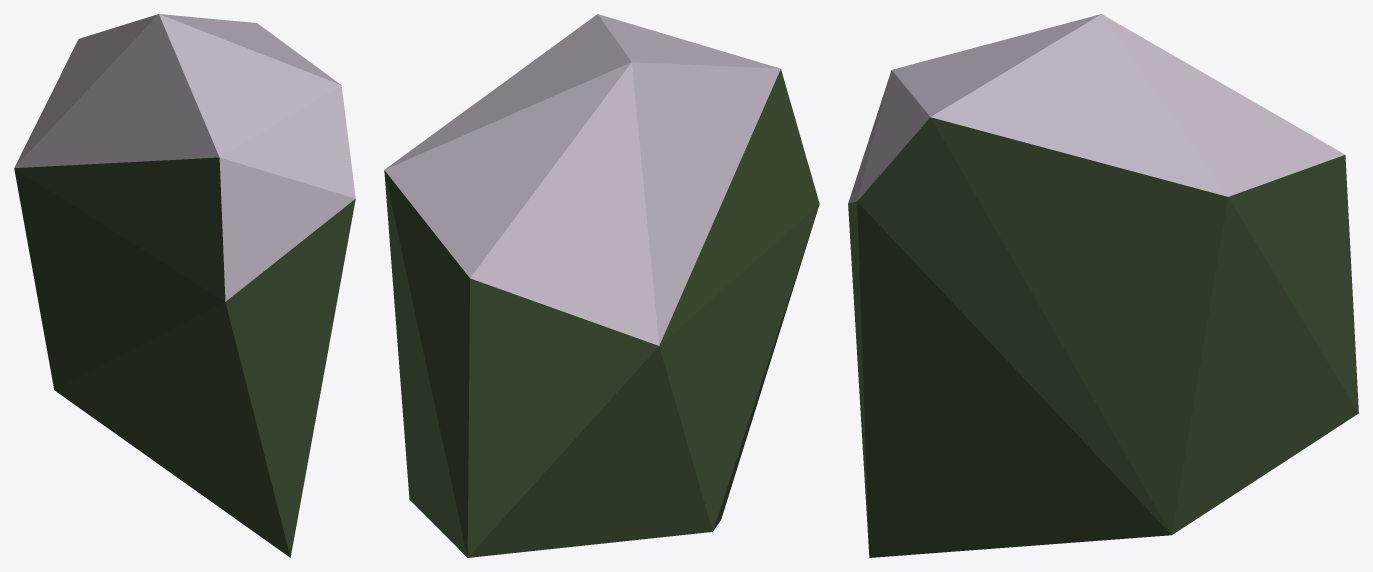
Rendered from Willow_Snow_2.lod4.glb.
3 views of the same model, side by side, from view 1: azimuth 30°, elevation 25°; view 2: azimuth 150°, elevation 25°; view 3: azimuth 270°, elevation 25° (orthographic). The views are drawn at different scales.
Visible parts, largest first — view 1: Willow_Snow_2; view 2: Willow_Snow_2; view 3: Willow_Snow_2.
Part boxes in pixels (<box>): Willow_Snow_2: <box>14,14,355,557</box>; Willow_Snow_2: <box>384,14,819,557</box>; Willow_Snow_2: <box>848,14,1358,557</box>.
Bounding box in the file's own units: 1.97 × 3.64 × 3.19.
